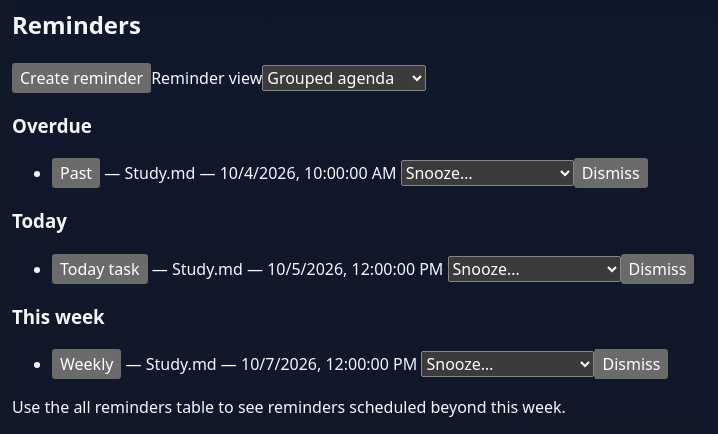
accessible reminders UI › groups overdue, today and this calendar week without duplicating reminders
Expected: the button "Past" is shown, [52,158,100,188]
Expected: the button "Today task" is shown, [52,254,148,284]
Select "All reminders table" in the dropdown labelled "Reminder view": (344, 78) [262,65,426,91]
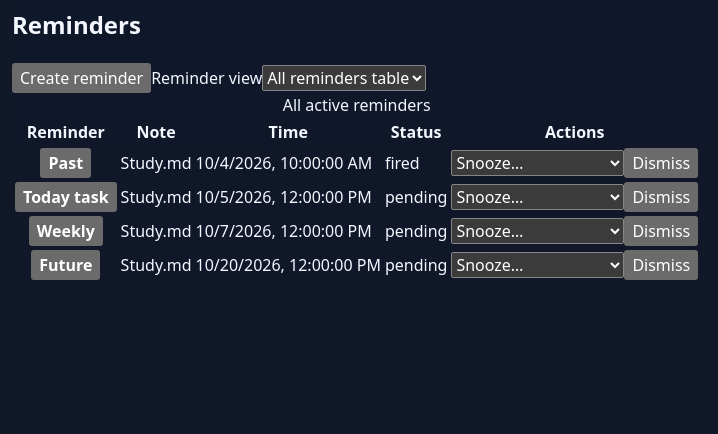
Expected: the table "All active reminders" is shown, [12,93,701,283]
Expected: the button "Future" is shown, [31,250,100,280]
